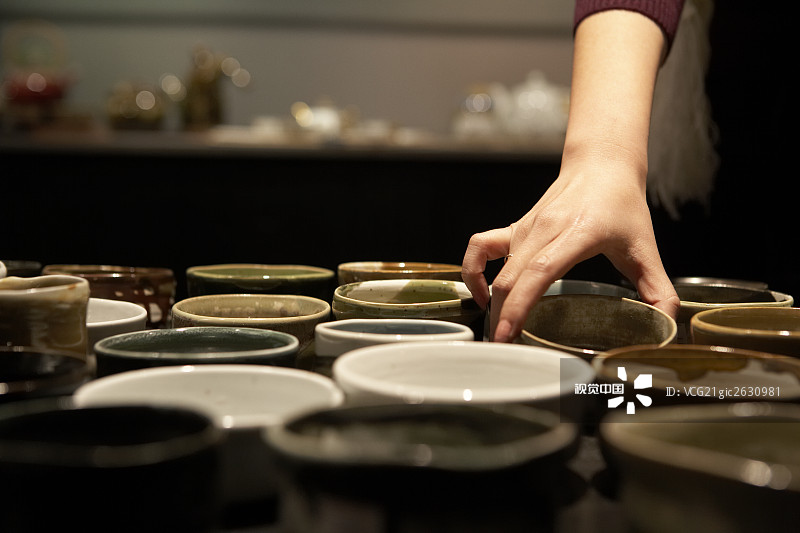no-phone: (445, 137, 691, 354)
